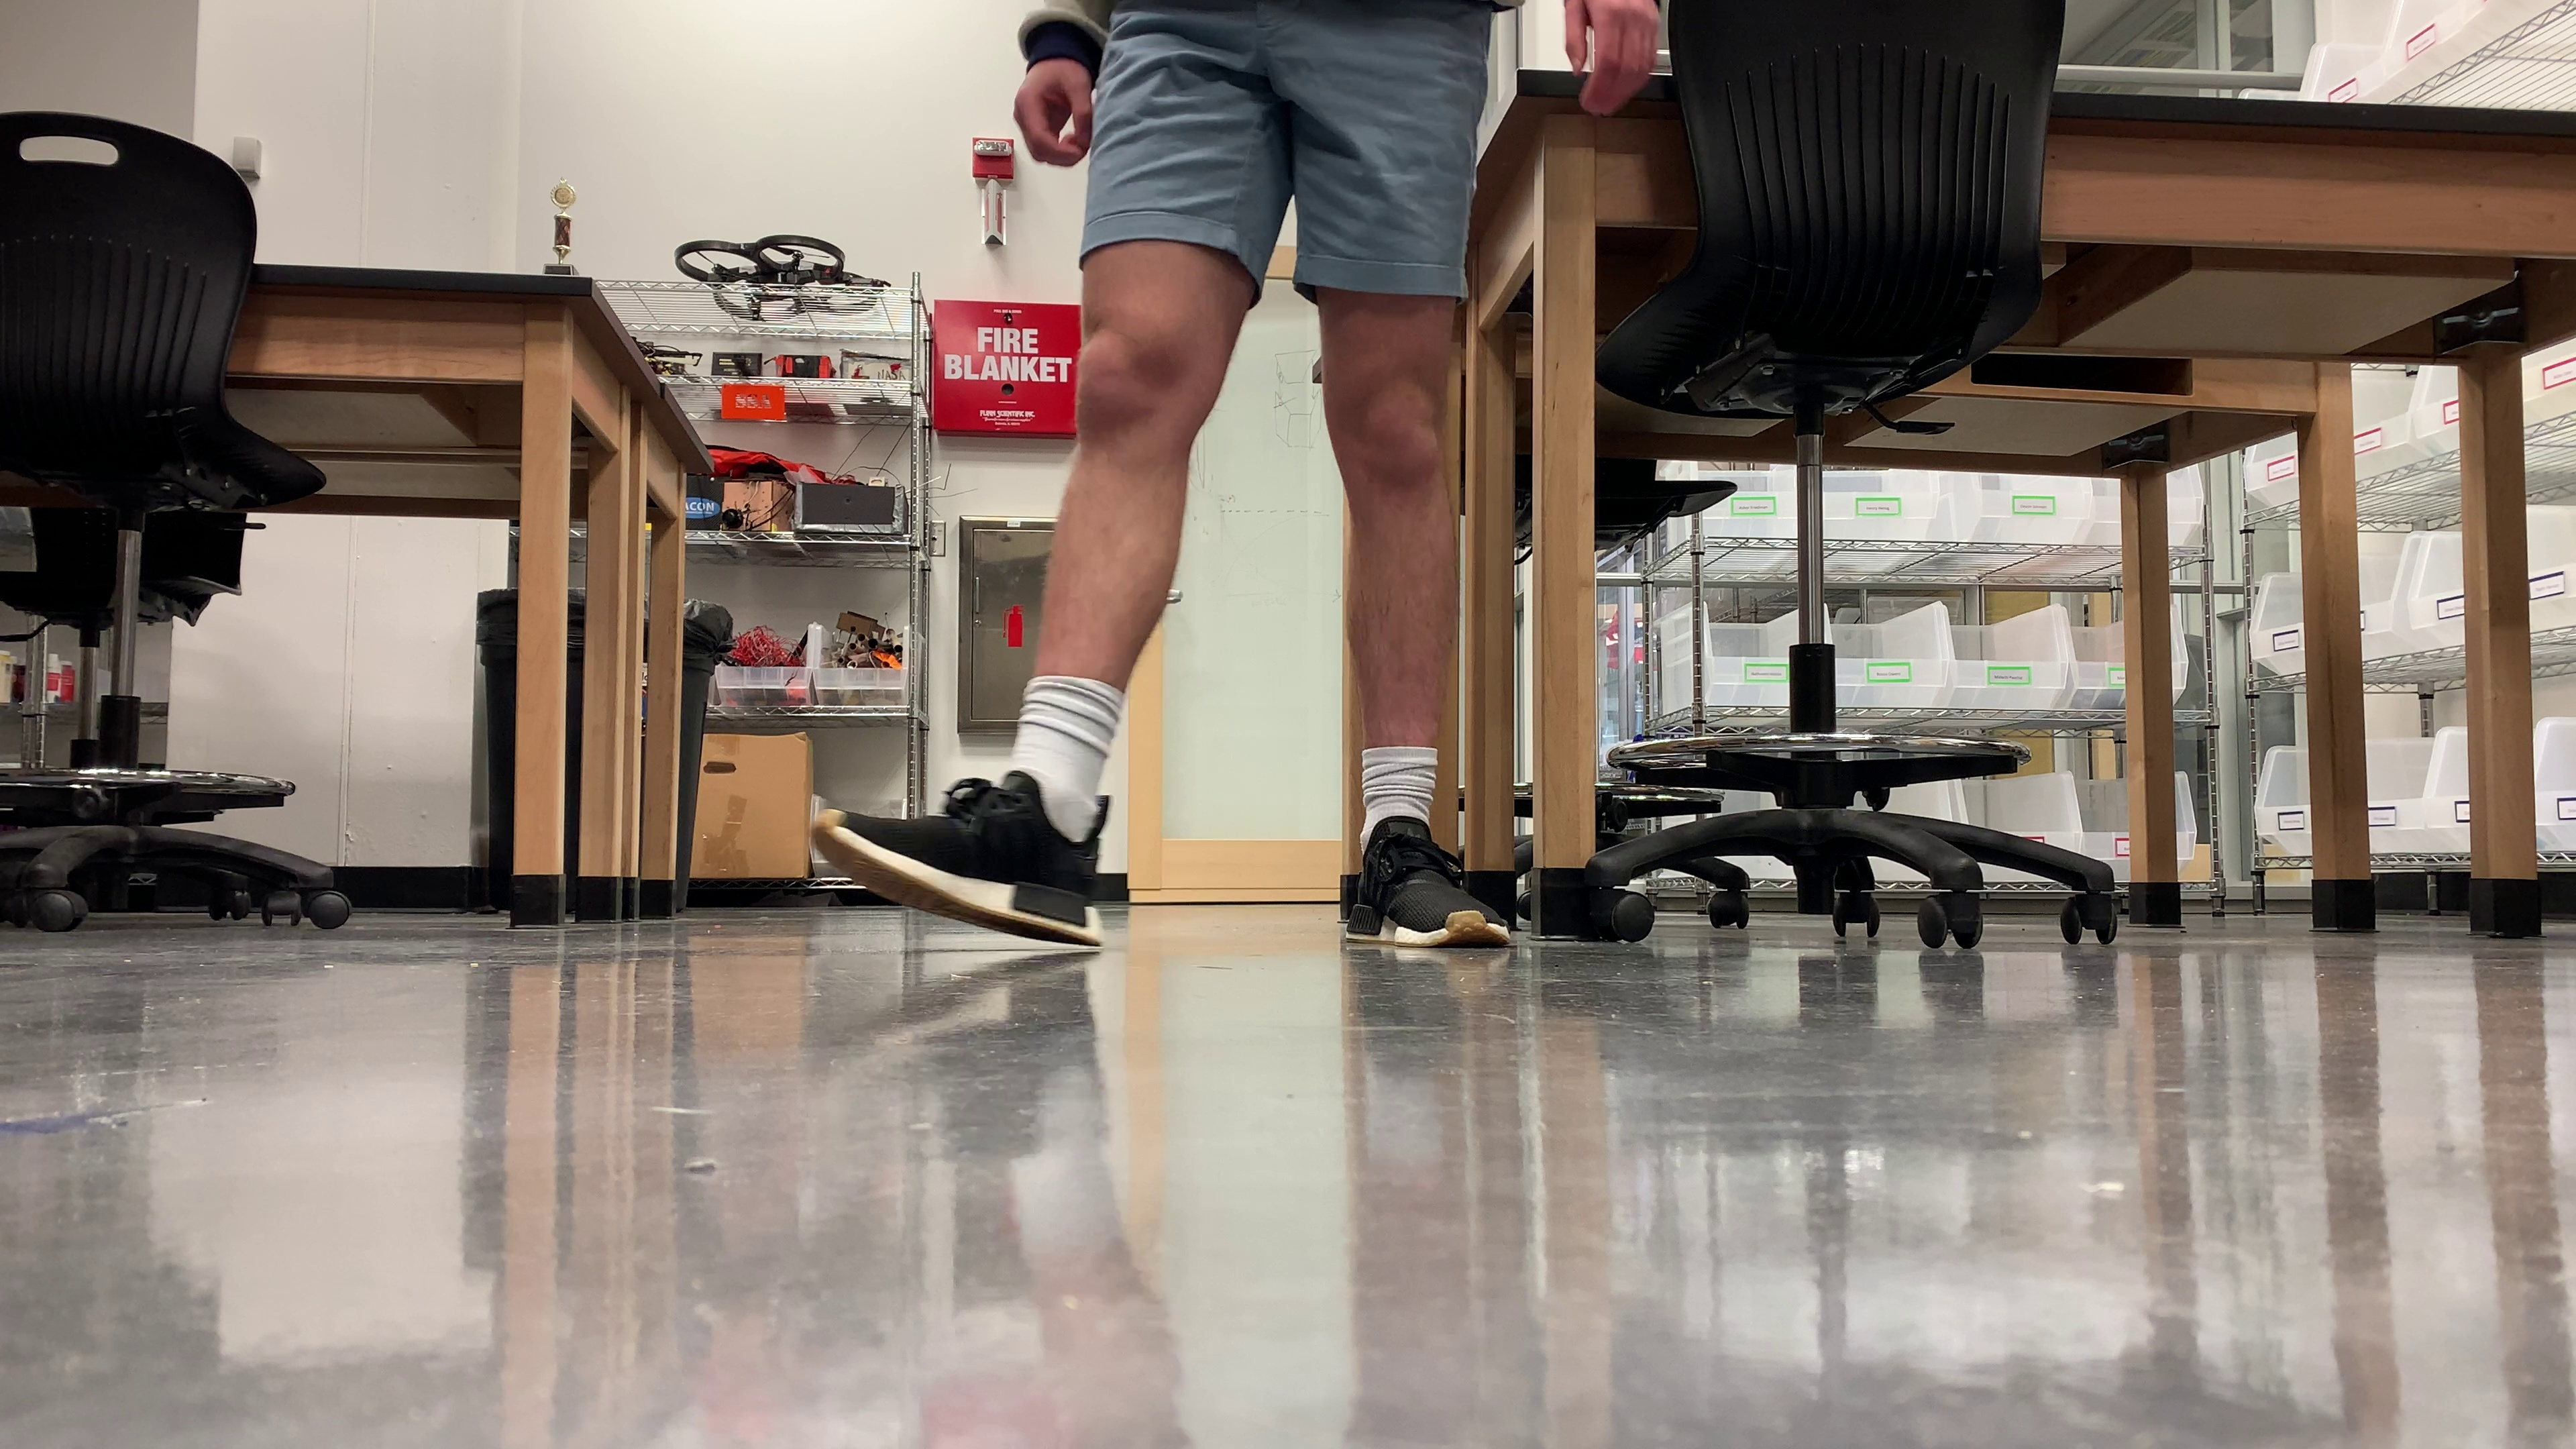shoe: (810, 771, 1109, 945), (1348, 816, 1509, 945)
